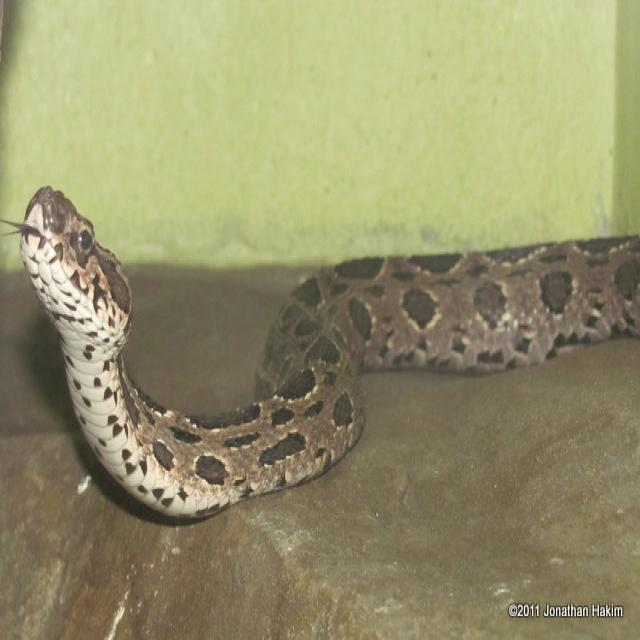Snake: (5, 173, 640, 524)
